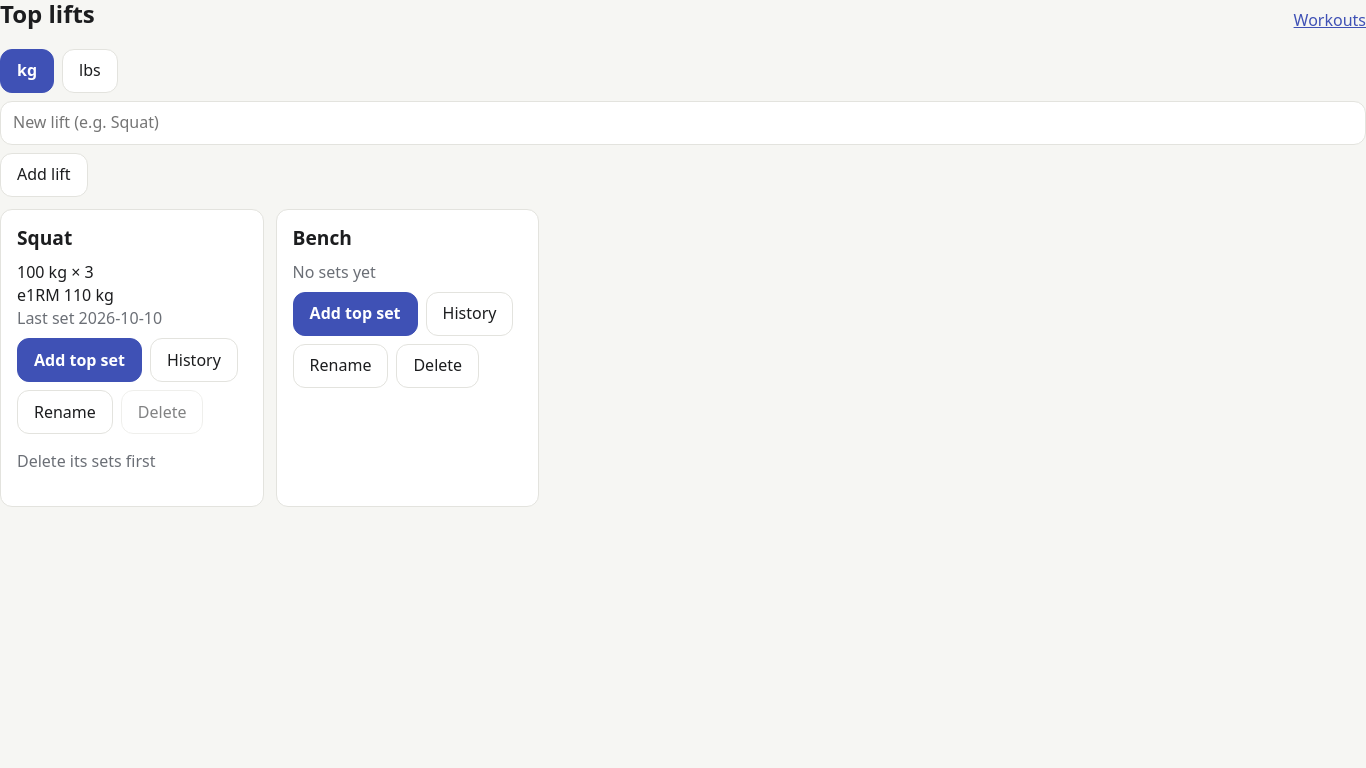
it: the input unit button converts the typed value and toggles back without drift
Click the button "Add top set" below "Last set". click: (80, 360)
box: [17,338,142,382]
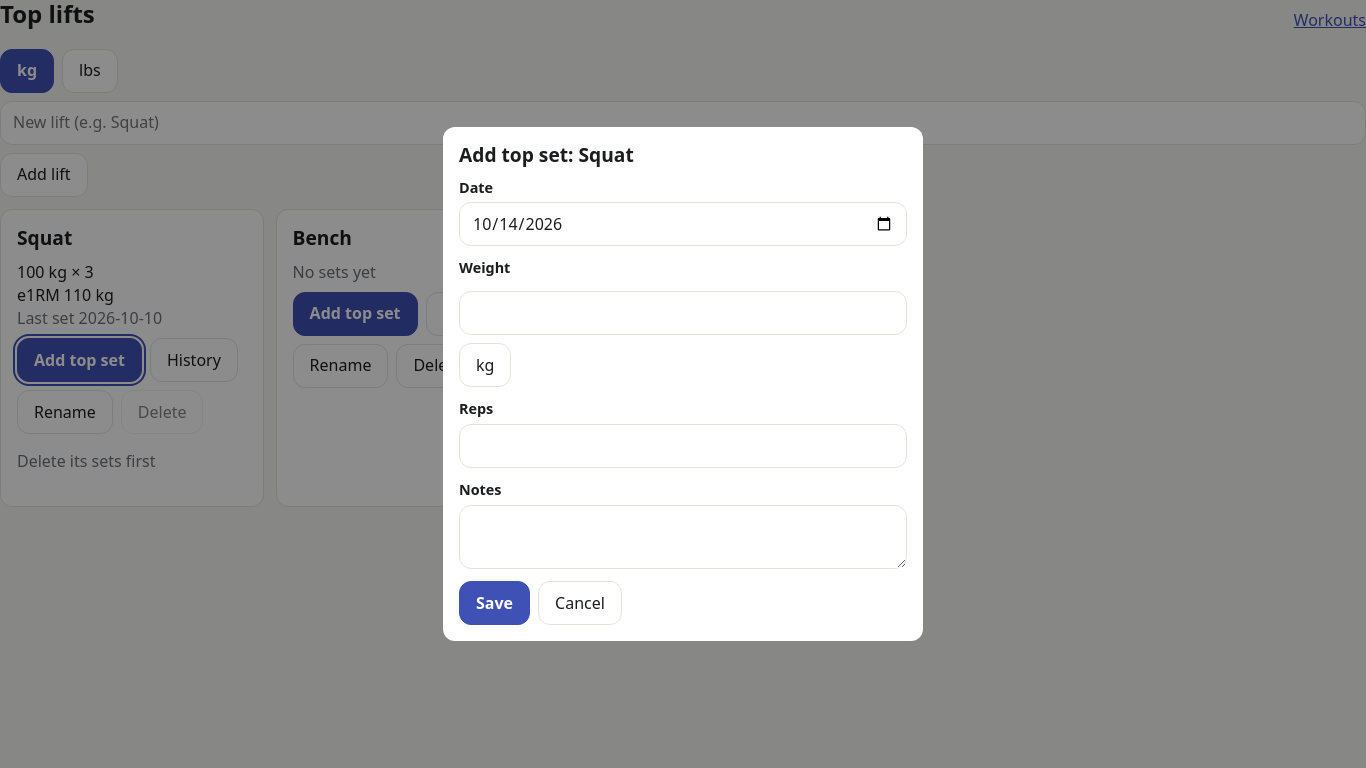
Type "100" into the number field labelled "Weight". click: (683, 313)
box: [459,291,907,335]
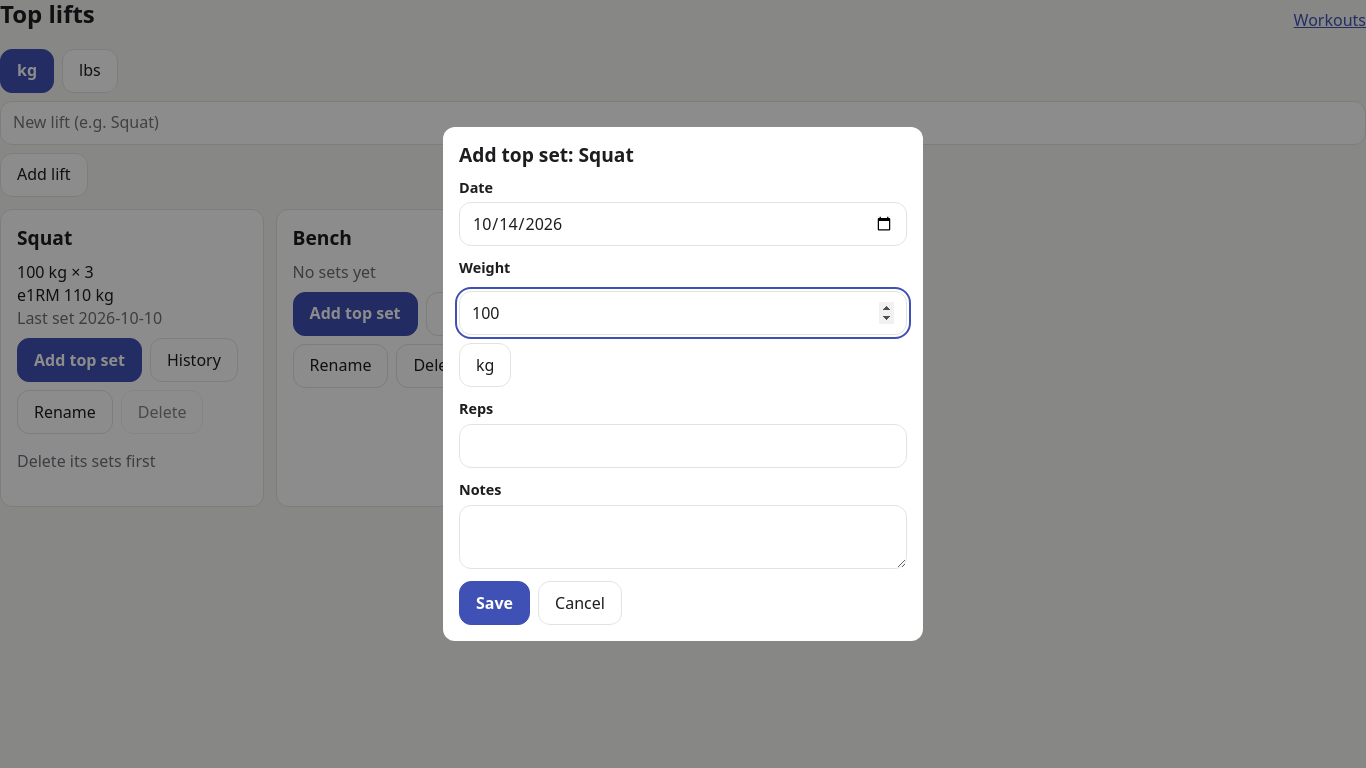
Now the button with aria-label "Weight unit" reads "kg"
Click the button with aria-label "Weight unit". click: (485, 365)
box: [459,343,511,387]
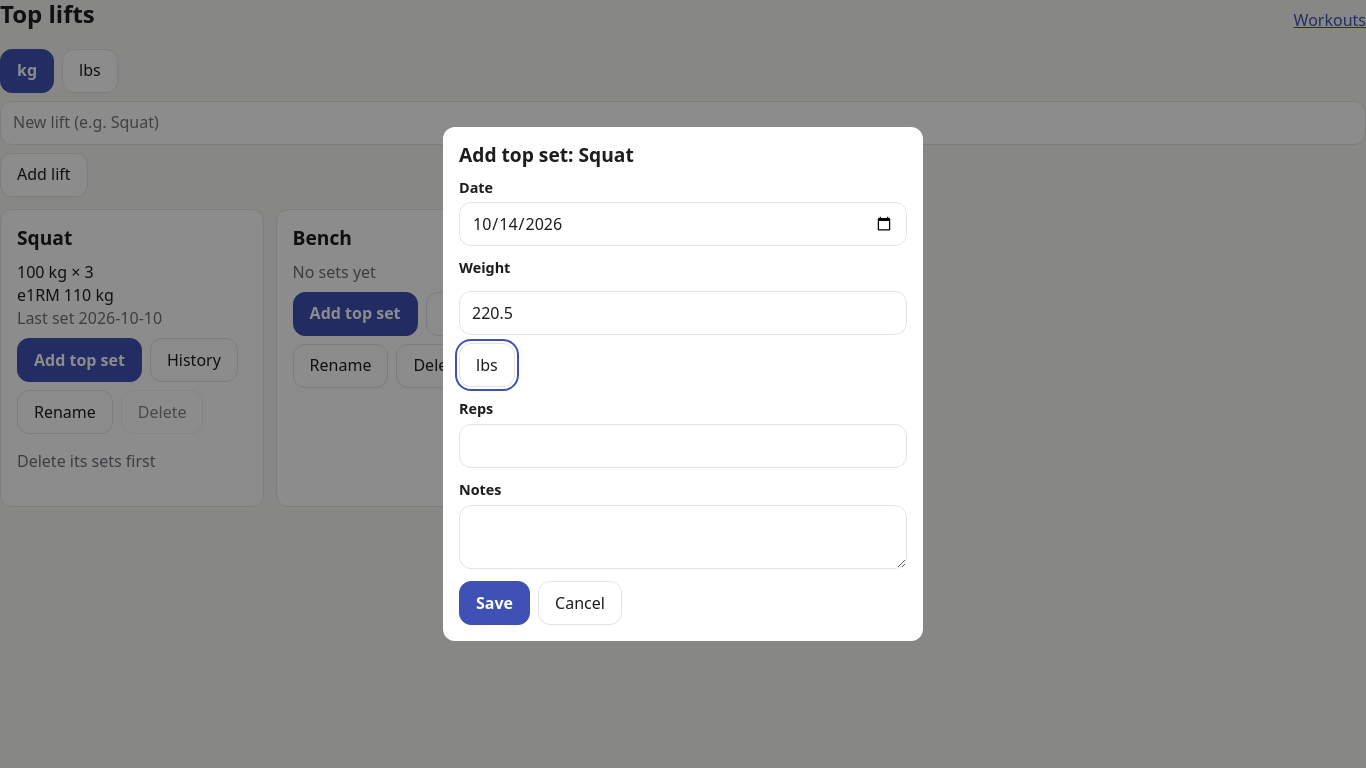
Now the number field labelled "Weight" holds "220.5", box [459,291,907,335]
Now the button with aria-label "Weight unit" reads "lbs"
Click the button with aria-label "Weight unit". click: (487, 365)
box: [459,343,515,387]
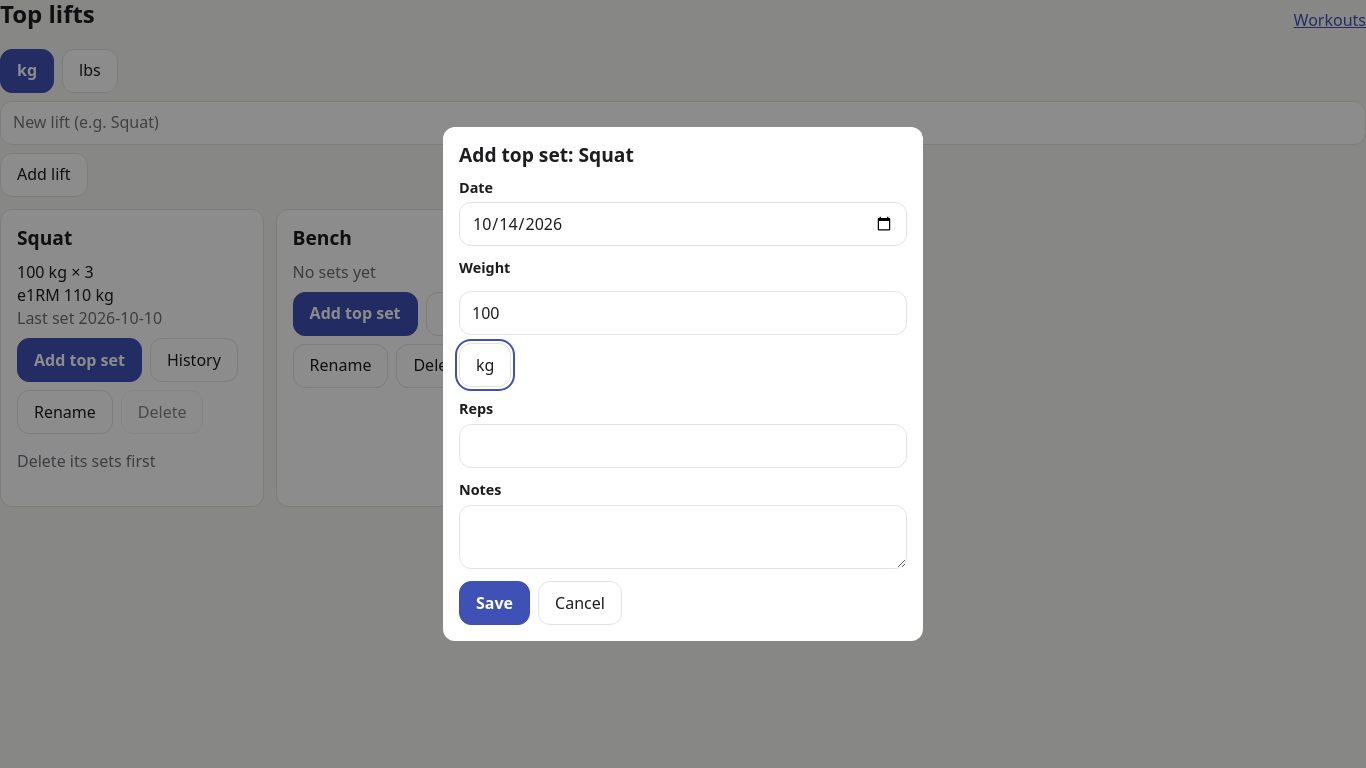
Now the button with aria-label "Weight unit" reads "kg", box [459,343,511,387]
